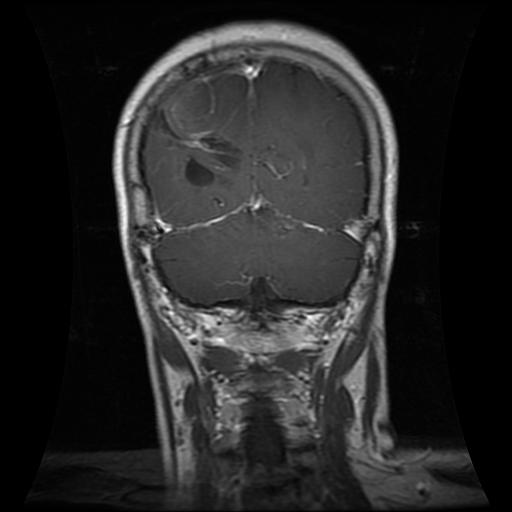Gliomia_tumour: (154, 81, 243, 187)
